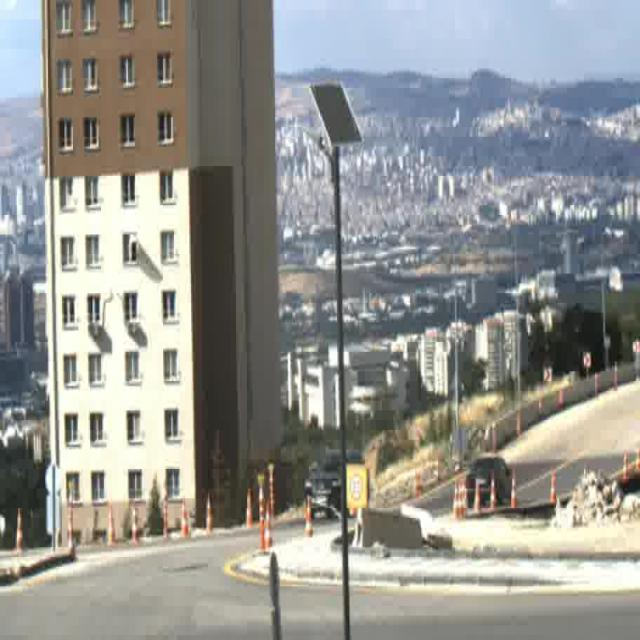Car: (307, 457, 364, 521), (457, 454, 511, 508)
